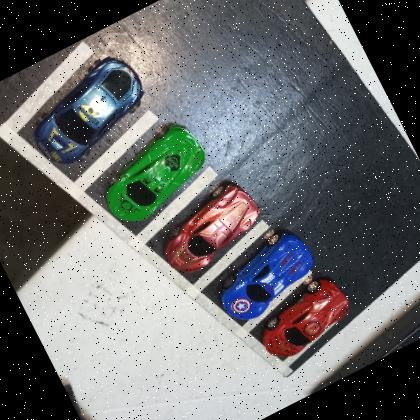Car: (13, 46, 164, 178), (85, 113, 222, 234), (201, 220, 330, 332), (146, 174, 274, 284), (248, 270, 360, 367)
